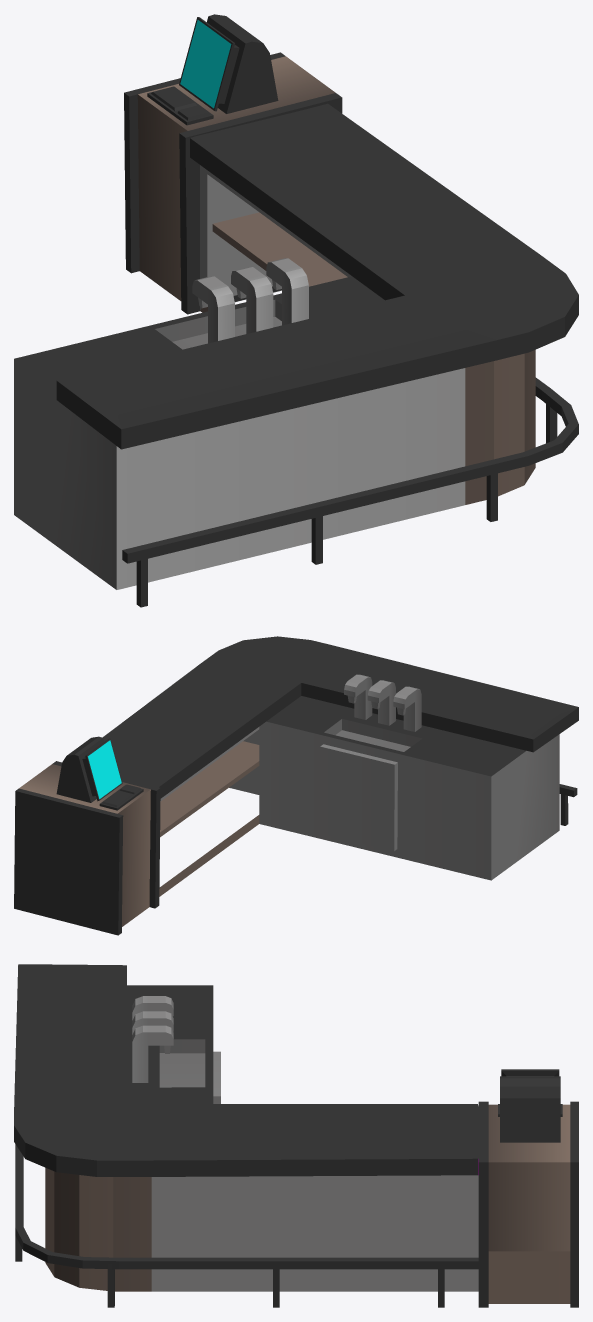
The model's file is B01_Bar_1.fbx.
3 renders of one model, top to bottom at view 1: azimuth 30°, elevation 25°; view 2: azimuth 150°, elevation 25°; view 3: azimuth 270°, elevation 25°, orthographic. The views are drawn at different scales.
Visible parts, largest first — view 1: B01_Bar_1; view 2: B01_Bar_1; view 3: B01_Bar_1.
Part boxes in pixels (x1=…): B01_Bar_1: x1=14, y1=14, x2=578, y2=607; B01_Bar_1: x1=14, y1=636, x2=578, y2=935; B01_Bar_1: x1=14, y1=964, x2=578, y2=1307.
Bounding box in the file's own units: 277 × 132 × 329.
